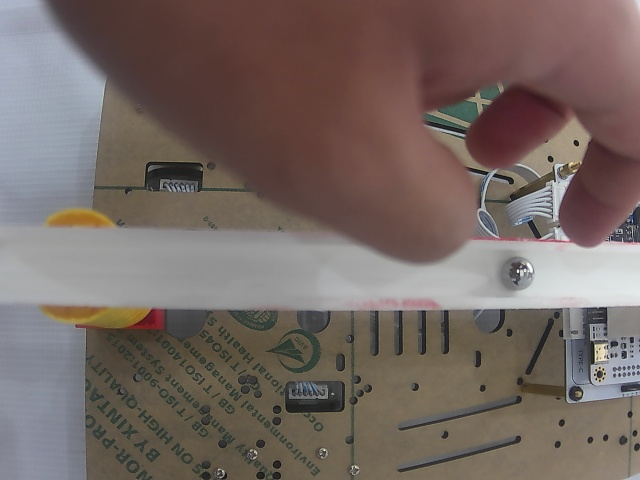steelball: (500, 256, 535, 290)
